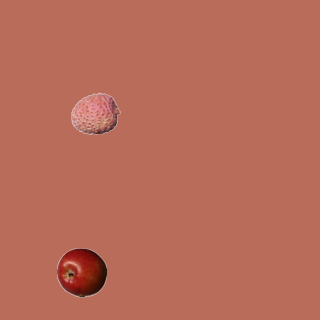Apple Braeburn: (56, 247, 106, 297)
Lychee: (70, 88, 120, 138)
